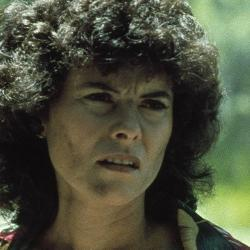face: (3, 4, 219, 225)
